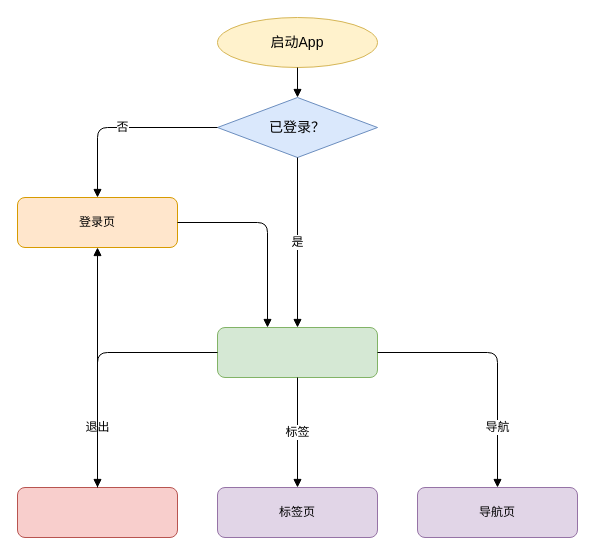
This 595x555 diagram has some shape labels left out. The shapes that lost their labels are listed below. From the top down, each one's centre as x and y in pixels, then its label:
At point 297,352: "主页".
At point 97,512: "退出登录".
